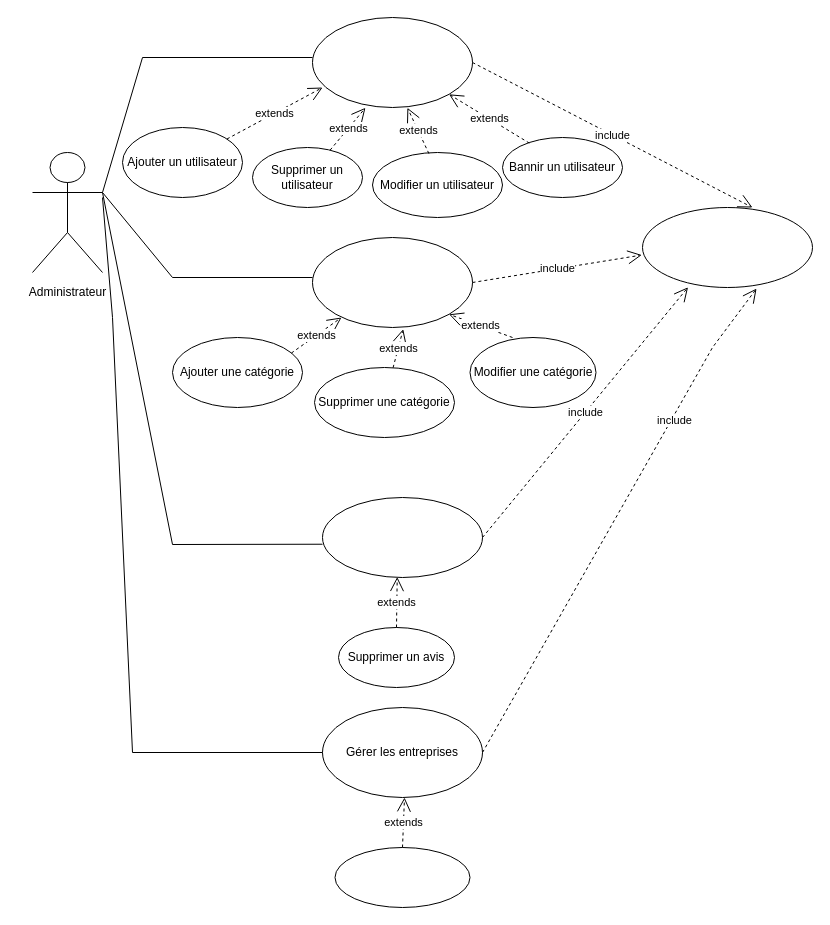
Some shapes in this 830 by 925 pixel diagram are drawn without their labels. Each missing label, with the centre of its shape:
Authentification: pixel 727 247
Consulterr les avis: pixel 402 537
Gérer les catégories: pixel 392 282
Gérer les utilisateurs: pixel 392 62
Supprimer une entreprise: pixel 402 877
